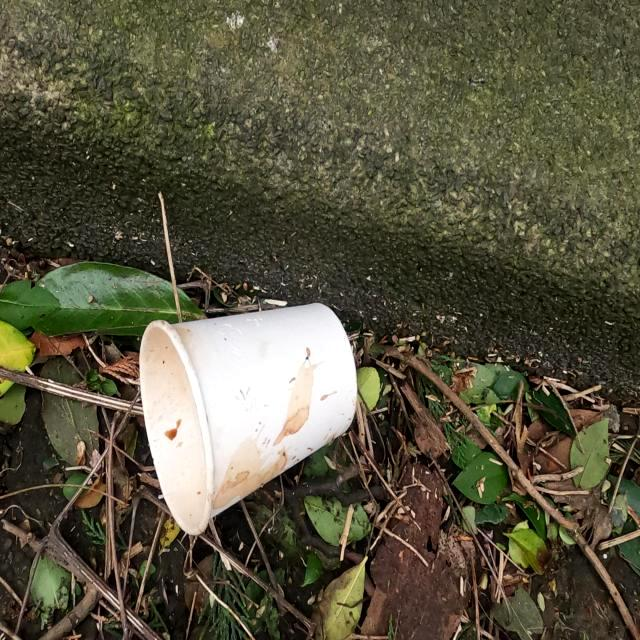Coffee Cup: (136, 300, 358, 538)
